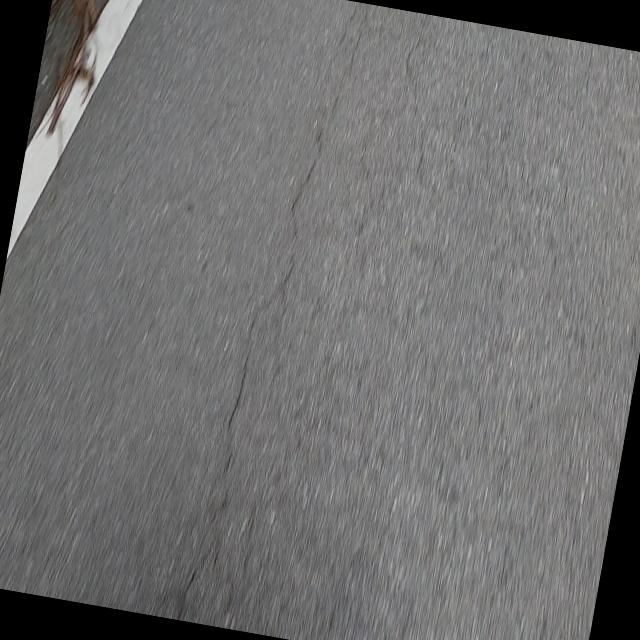Retak-Memanjang: (226, 136, 320, 475)
